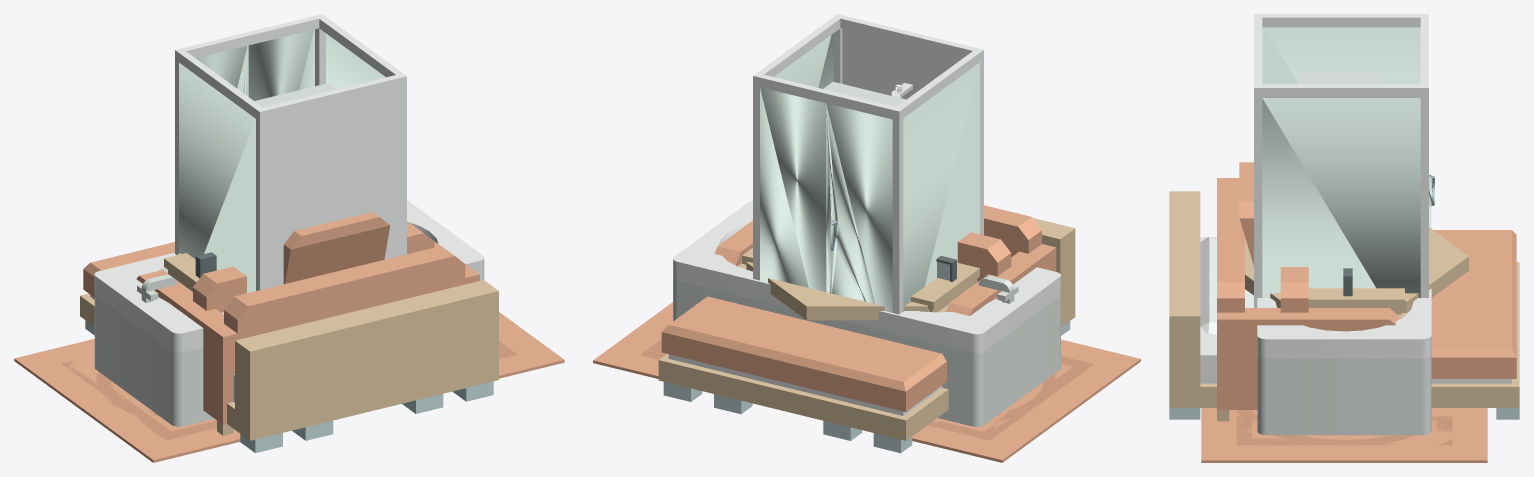
The model's file is furniture.glb.
3 renders of one model, left to right at view 1: azimuth 30°, elevation 25°; view 2: azimuth 150°, elevation 25°; view 3: azimuth 270°, elevation 25°, orthographic. The views are drawn at different scales.
Parts seen in each view (by area): view 1: shower, bedDouble, bathtub, loungeSofaLong, rugRectangle, loungeChairRelax, bedSingle, loungeSofa, rugRounded, desk, kitchenFridge; view 2: shower, bedDouble, bathtub, rugRectangle, bedSingle, loungeSofa, loungeSofaLong, tableRound, rugRounded, desk, kitchenFridge; view 3: shower, bathtub, bedDouble, loungeSofaLong, rugRectangle, bedSingle, rugRounded, loungeSofa, tableRound, desk, loungeChairRelax, kitchenFridge (+1 smaller).
Boxes of the visible parts, x1,y1,x2,y2 form: shower: [175, 14, 406, 293]; bedDouble: [80, 242, 498, 452]; bathtub: [94, 200, 484, 426]; loungeSofaLong: [167, 239, 479, 435]; rugRectangle: [14, 312, 564, 462]; loungeChairRelax: [283, 212, 390, 284]; bedSingle: [141, 242, 447, 440]; loungeSofa: [136, 221, 434, 318]; rugRounded: [68, 313, 506, 431]; desk: [164, 253, 199, 291]; kitchenFridge: [254, 83, 336, 107]; shower: [753, 14, 983, 314]; bedDouble: [658, 218, 1075, 453]; bathtub: [673, 200, 1060, 426]; rugRectangle: [593, 302, 1140, 462]; bedSingle: [708, 327, 891, 440]; loungeSofa: [714, 221, 1011, 315]; loungeSofaLong: [749, 205, 1056, 284]; tableRound: [746, 261, 929, 320]; rugRounded: [644, 304, 1089, 438]; desk: [742, 248, 979, 312]; kitchenFridge: [823, 81, 905, 106]; shower: [1254, 14, 1434, 307]; bathtub: [1257, 206, 1431, 435]; bedDouble: [1169, 191, 1519, 419]; loungeSofaLong: [1217, 178, 1337, 421]; rugRectangle: [1201, 408, 1487, 462]; bedSingle: [1169, 216, 1519, 360]; rugRounded: [1204, 408, 1477, 459]; loungeSofa: [1280, 267, 1400, 331]; tableRound: [1245, 227, 1468, 312]; desk: [1308, 288, 1404, 314]; loungeChairRelax: [1239, 162, 1253, 265]; kitchenFridge: [1299, 71, 1386, 84].
Bounding box in the file's own units: 3.14 × 2.19 × 2.25.
